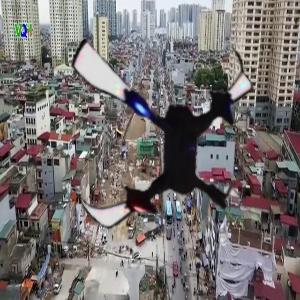drone: (41, 15, 274, 248)
